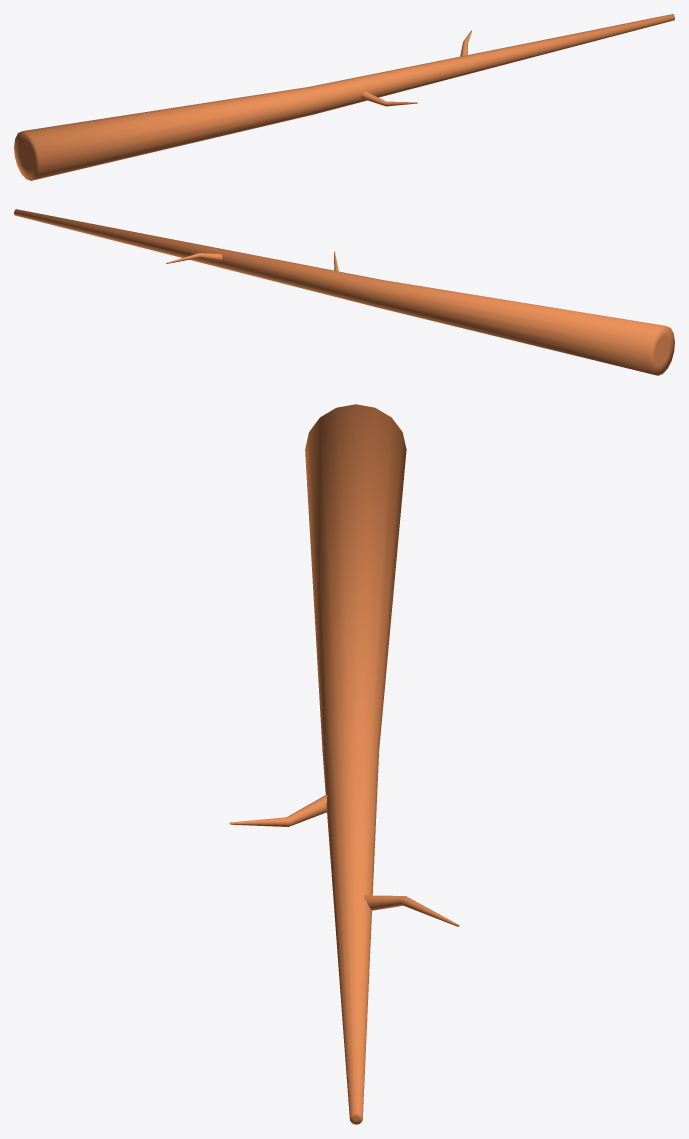
File: Fallen Tree.fbx
3 renders of one model, top to bottom at view 1: azimuth 30°, elevation 25°; view 2: azimuth 150°, elevation 25°; view 3: azimuth 270°, elevation 25°, orthographic. The views are drawn at different scales.
Parts seen in each view (by area): view 1: Trunk; view 2: Trunk; view 3: Trunk.
Part boxes in pixels (bbox=[...]): Trunk: bbox=[14, 14, 674, 180]; Trunk: bbox=[14, 209, 674, 375]; Trunk: bbox=[229, 404, 459, 1124].
Bounding box in the file's own units: 1200 × 86.45 × 184.
